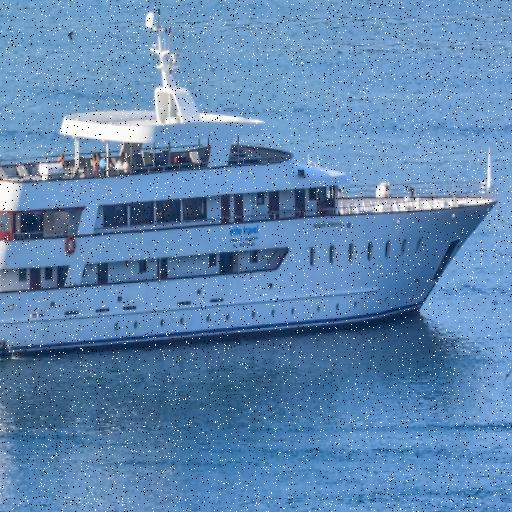cruises: (1, 5, 501, 370)
